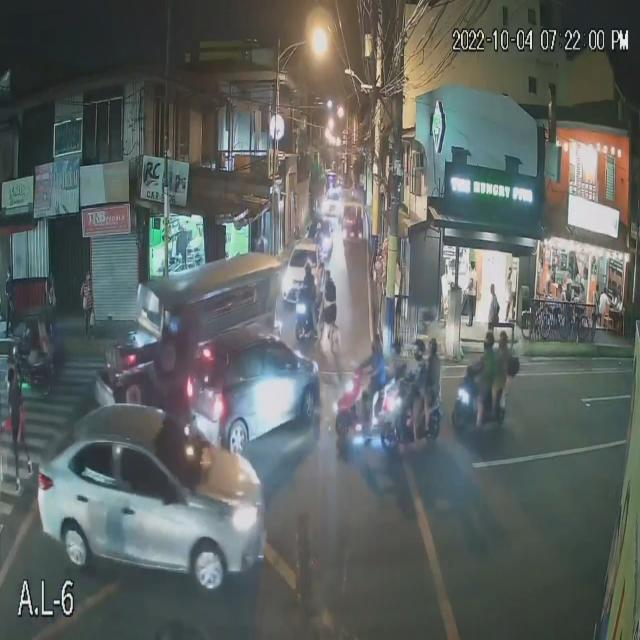Full-Faced: (408, 337, 423, 366), (483, 330, 497, 354), (494, 331, 508, 353), (368, 334, 383, 354), (424, 336, 438, 356), (303, 260, 314, 276)
